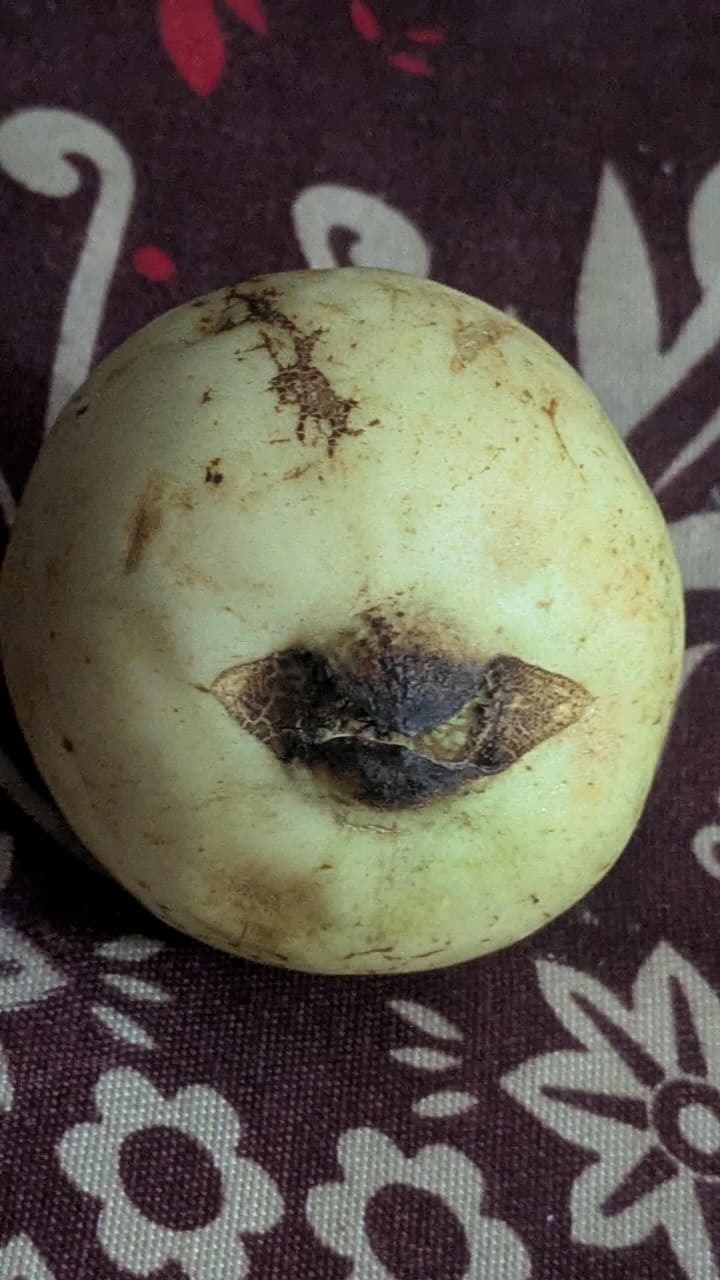guava: (139, 253, 624, 1173)
